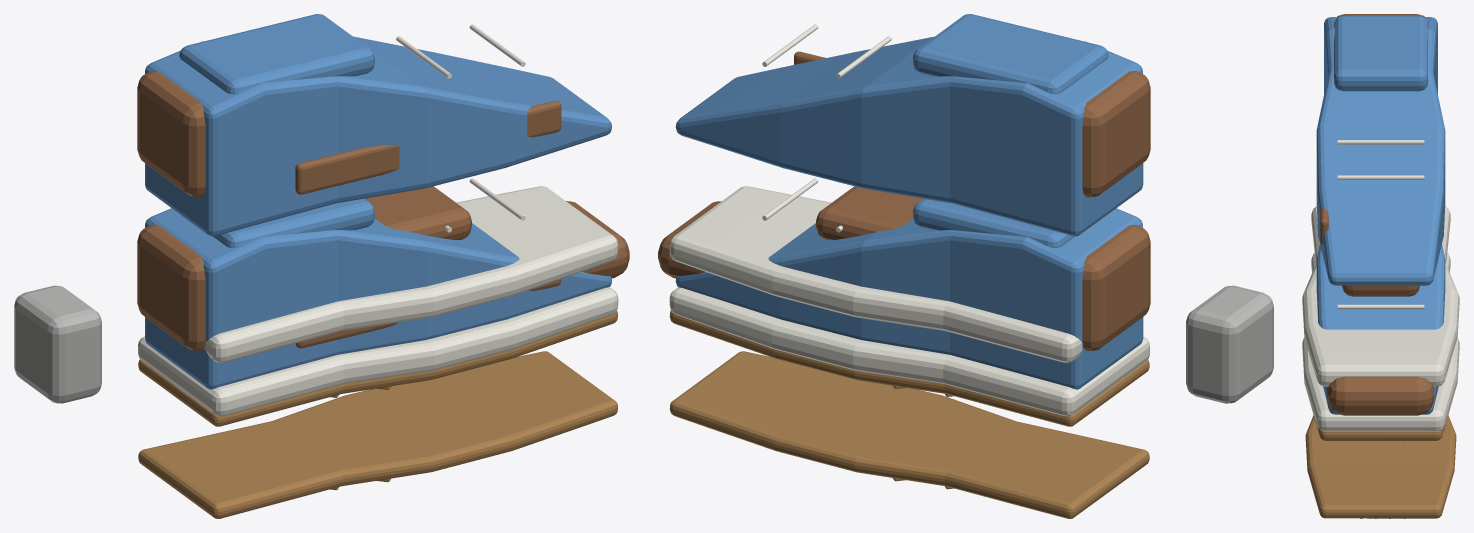
Rendered from nike-sting-1978.glb.
3 renders of one model, left to right at view 1: azimuth 30°, elevation 25°; view 2: azimuth 150°, elevation 25°; view 3: azimuth 270°, elevation 25°, orthographic. The views are drawn at different scales.
Visible parts, largest first — view 1: nike-sting-1978_UPPER_EXPLODED, nike-sting-1978_OUTSOLE_EXPLODED, nike-sting-1978_UPPER, nike-sting-1978_MIDSOLE_EXPLODED, nike-sting-1978_MIDSOLE, nike-sting-1978_TONGUE_EXPLODED, nike-sting-1978_HEEL_FOAM_EXPLODED, nike-sting-1978_HEEL_COUNTER_EXPLODED, nike-sting-1978_HEEL_COUNTER, nike-sting-1978_OUTSOLE, nike-sting-1978_SIDE_REINFORCEMENT_EXPLODED, nike-sting-1978_EYESTAY (+3 smaller); view 2: nike-sting-1978_UPPER_EXPLODED, nike-sting-1978_OUTSOLE_EXPLODED, nike-sting-1978_UPPER, nike-sting-1978_MIDSOLE_EXPLODED, nike-sting-1978_MIDSOLE, nike-sting-1978_TONGUE_EXPLODED, nike-sting-1978_HEEL_FOAM_EXPLODED, nike-sting-1978_HEEL_COUNTER_EXPLODED, nike-sting-1978_HEEL_COUNTER, nike-sting-1978_OUTSOLE, nike-sting-1978_EYESTAY, nike-sting-1978_TONGUE (+1 smaller); view 3: nike-sting-1978_UPPER_EXPLODED, nike-sting-1978_OUTSOLE_EXPLODED, nike-sting-1978_MIDSOLE_EXPLODED, nike-sting-1978_TONGUE_EXPLODED, nike-sting-1978_UPPER, nike-sting-1978_MIDSOLE, nike-sting-1978_TOE_OVERLAY, nike-sting-1978_OUTSOLE, nike-sting-1978_EYESTAY, nike-sting-1978_LACE_5, nike-sting-1978_LACE_4_EXPLODED, nike-sting-1978_LACE_5_EXPLODED (+1 smaller).
Part boxes in pixels (x1=…): nike-sting-1978_UPPER_EXPLODED: x1=145, y1=36, x2=611, y2=236; nike-sting-1978_OUTSOLE_EXPLODED: x1=138, y1=351, x2=617, y2=518; nike-sting-1978_UPPER: x1=145, y1=208, x2=611, y2=389; nike-sting-1978_MIDSOLE_EXPLODED: x1=204, y1=186, x2=618, y2=362; nike-sting-1978_MIDSOLE: x1=138, y1=287, x2=618, y2=416; nike-sting-1978_TONGUE_EXPLODED: x1=179, y1=14, x2=374, y2=93; nike-sting-1978_HEEL_FOAM_EXPLODED: x1=14, y1=285, x2=101, y2=403; nike-sting-1978_HEEL_COUNTER_EXPLODED: x1=137, y1=71, x2=205, y2=197; nike-sting-1978_HEEL_COUNTER: x1=137, y1=224, x2=205, y2=350; nike-sting-1978_OUTSOLE: x1=138, y1=311, x2=617, y2=426; nike-sting-1978_SIDE_REINFORCEMENT_EXPLODED: x1=295, y1=101, x2=561, y2=194; nike-sting-1978_EYESTAY: x1=365, y1=186, x2=471, y2=239; nike-sting-1978_UPPER_EXPLODED: x1=675, y1=36, x2=1143, y2=236; nike-sting-1978_OUTSOLE_EXPLODED: x1=669, y1=351, x2=1149, y2=518; nike-sting-1978_UPPER: x1=675, y1=208, x2=1143, y2=389; nike-sting-1978_MIDSOLE_EXPLODED: x1=669, y1=186, x2=1082, y2=362; nike-sting-1978_MIDSOLE: x1=669, y1=287, x2=1149, y2=416; nike-sting-1978_TONGUE_EXPLODED: x1=913, y1=14, x2=1108, y2=93; nike-sting-1978_HEEL_FOAM_EXPLODED: x1=1186, y1=285, x2=1273, y2=403; nike-sting-1978_HEEL_COUNTER_EXPLODED: x1=1082, y1=71, x2=1150, y2=197; nike-sting-1978_HEEL_COUNTER: x1=1082, y1=225, x2=1150, y2=350; nike-sting-1978_OUTSOLE: x1=669, y1=311, x2=1149, y2=426; nike-sting-1978_EYESTAY: x1=816, y1=186, x2=922, y2=240; nike-sting-1978_TONGUE: x1=913, y1=198, x2=1074, y2=247; nike-sting-1978_UPPER_EXPLODED: x1=1316, y1=17, x2=1445, y2=285; nike-sting-1978_OUTSOLE_EXPLODED: x1=1305, y1=415, x2=1456, y2=518; nike-sting-1978_MIDSOLE_EXPLODED: x1=1302, y1=206, x2=1459, y2=386; nike-sting-1978_TONGUE_EXPLODED: x1=1334, y1=16, x2=1427, y2=91; nike-sting-1978_UPPER: x1=1316, y1=245, x2=1445, y2=414; nike-sting-1978_MIDSOLE: x1=1302, y1=253, x2=1459, y2=430; nike-sting-1978_TOE_OVERLAY: x1=1327, y1=376, x2=1434, y2=415; nike-sting-1978_OUTSOLE: x1=1309, y1=401, x2=1452, y2=440; nike-sting-1978_EYESTAY: x1=1342, y1=285, x2=1419, y2=296; nike-sting-1978_LACE_5: x1=1337, y1=304, x2=1424, y2=309; nike-sting-1978_LACE_4_EXPLODED: x1=1337, y1=140, x2=1424, y2=144; nike-sting-1978_LACE_5_EXPLODED: x1=1337, y1=175, x2=1424, y2=179.
Bounding box in the file's own units: 0.3904 × 0.279 × 0.11.
